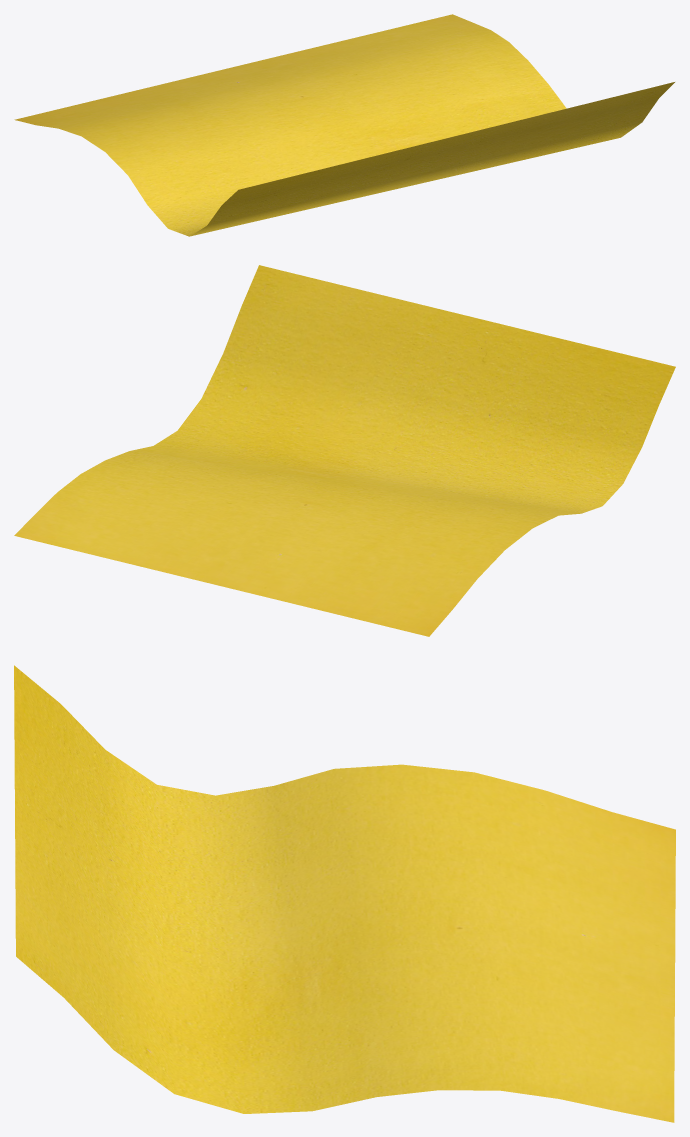
Rendered from note.glb.
3 views of the same model, one above another, from view 1: azimuth 30°, elevation 25°; view 2: azimuth 150°, elevation 25°; view 3: azimuth 270°, elevation 25° (orthographic). The views are drawn at different scales.
Visible parts, largest first — view 1: single curved; view 2: single curved; view 3: single curved.
Part boxes in pixels (bbox=[...]): single curved: bbox=[14, 14, 674, 236]; single curved: bbox=[14, 265, 675, 636]; single curved: bbox=[14, 665, 675, 1122].
Bounding box in the file's own units: 2.08 × 0.4975 × 1.92.
1 material, 1 textured.
